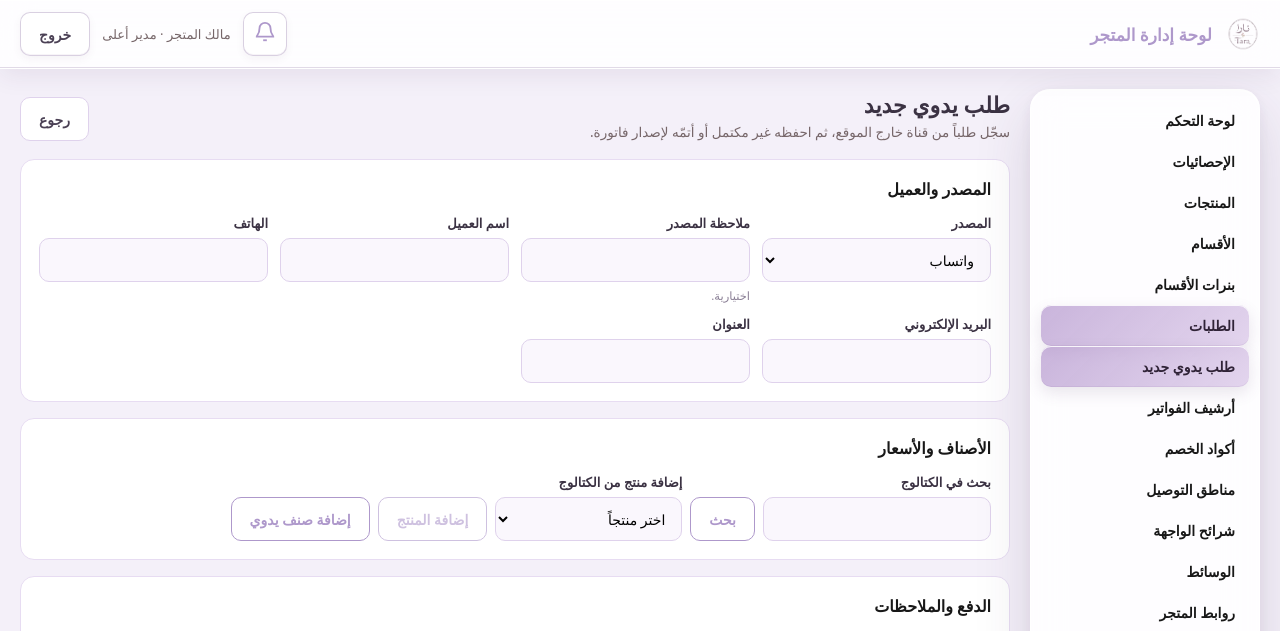
it: manual order workspace › loads configured choices and applies their catalog price
Select "راتنج شفاف · RES-1000" in the dropdown labelled "إضافة منتج من الكتالوج". click: (589, 519)
box: [495,497,682,541]
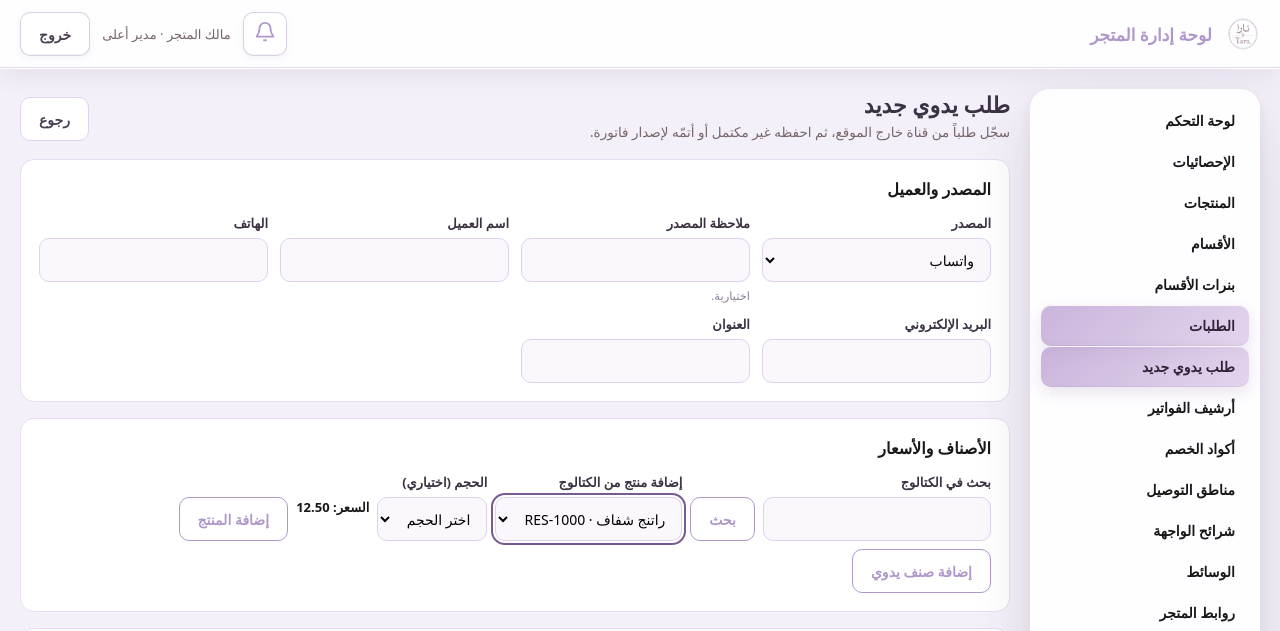
Select "كبير" in the dropdown labelled "الحجم". click: (432, 519)
box: [377,497,487,541]
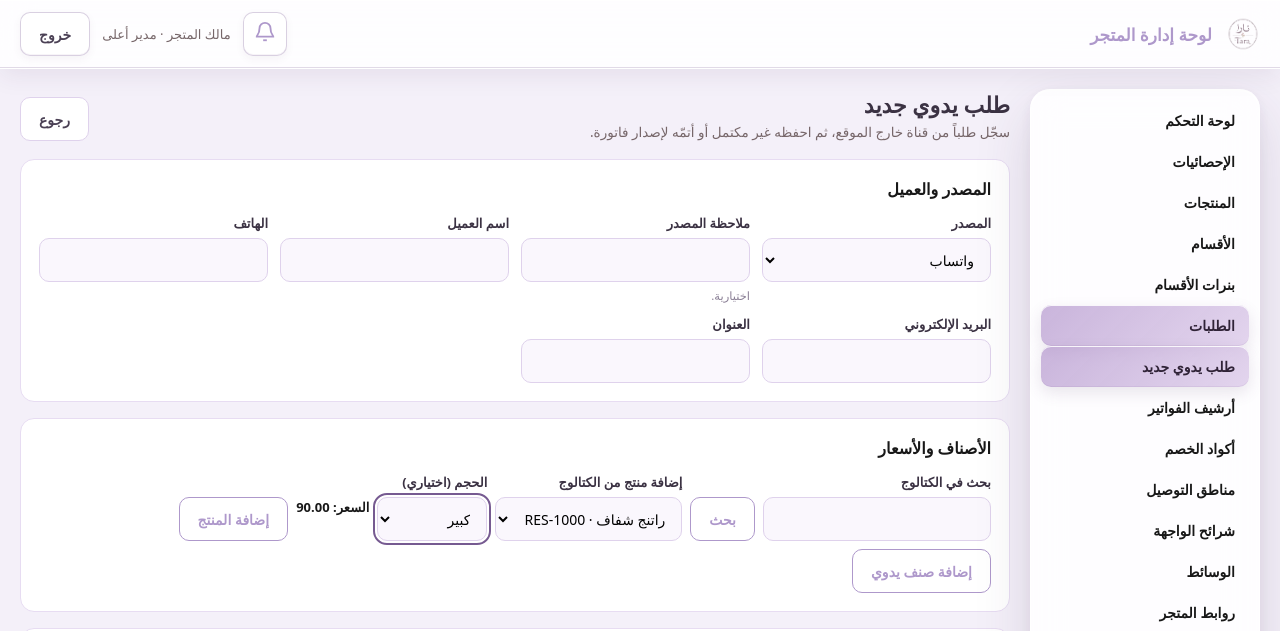
Click the button "إضافة المنتج". click: (233, 519)
box: [178,497,288,541]
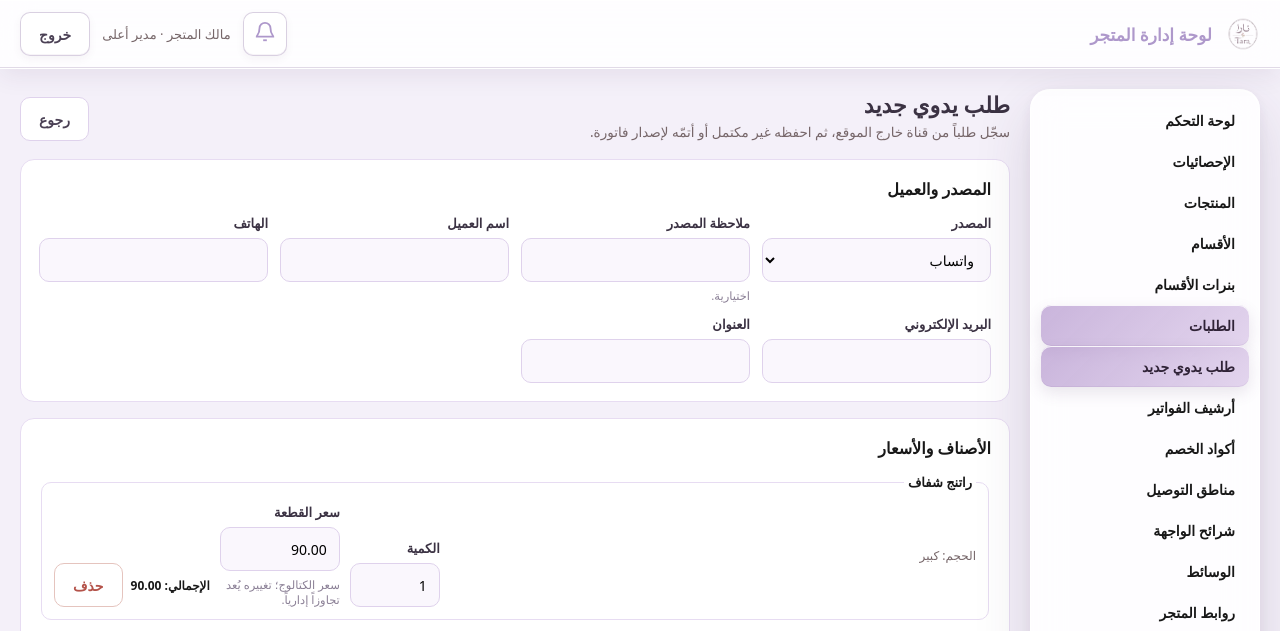
Result: the text "الحجم: كبير" is shown at [920,546,976,564]
Result: the field named "سعر الصنف 1" holds "90.00" at [220,527,340,571]
